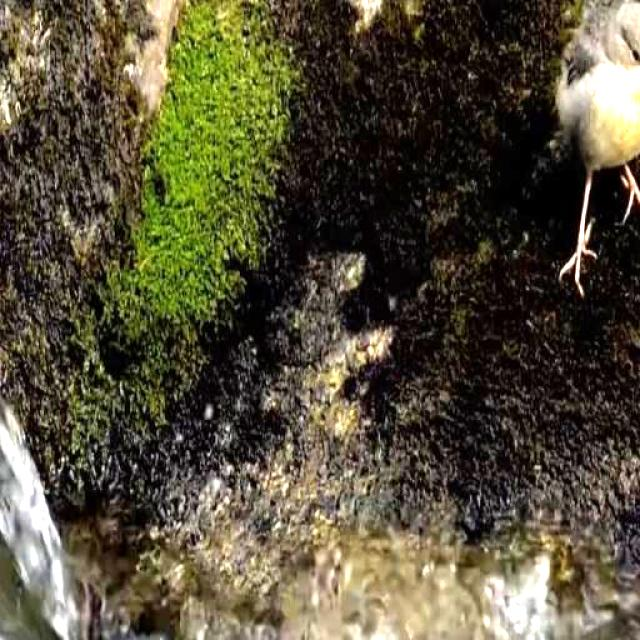airplane: (539, 0, 640, 305)
